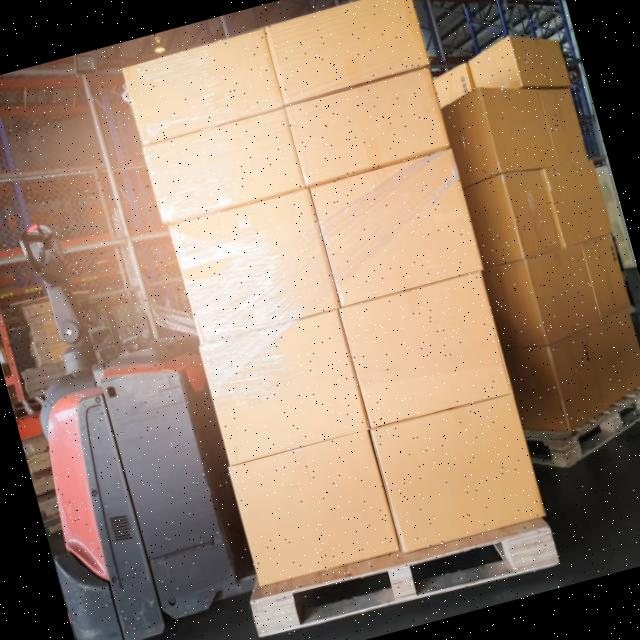Wooden-Pallets: (250, 515, 564, 640), (534, 391, 640, 470)
